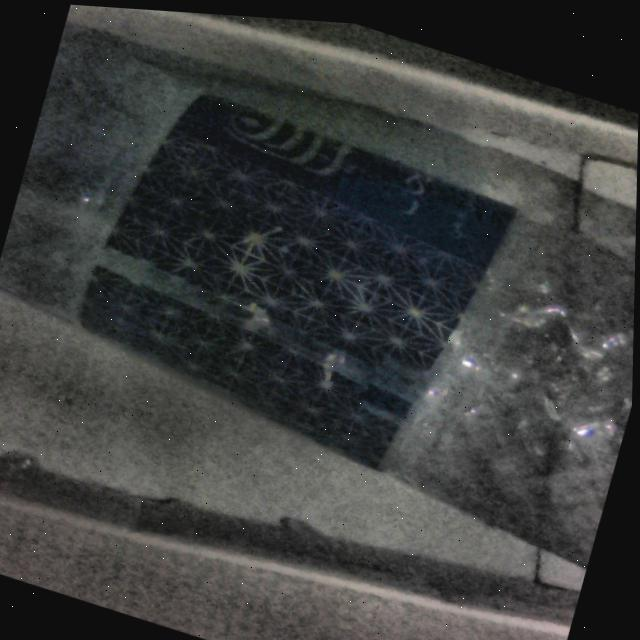plastic: (0, 0, 640, 623)
